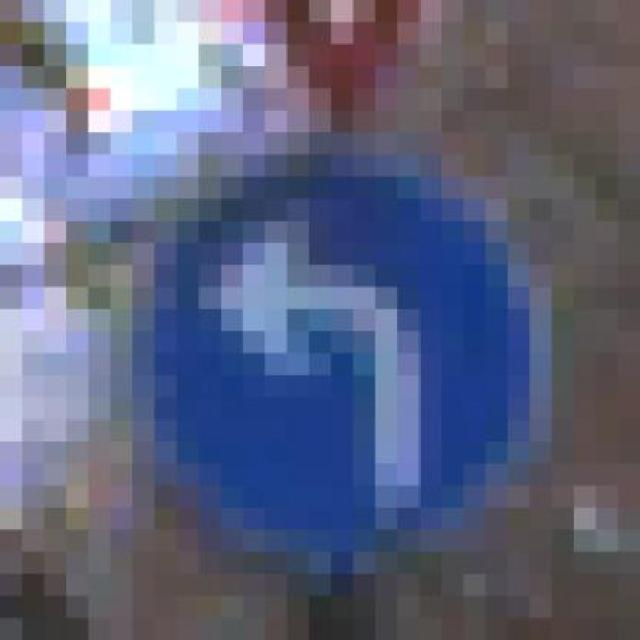Turn left ahead: (110, 132, 552, 574)
